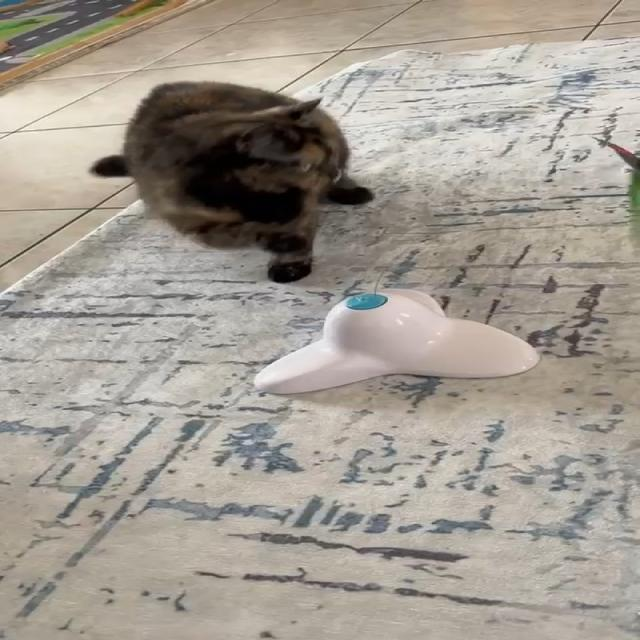authorized: (88, 79, 375, 283)
